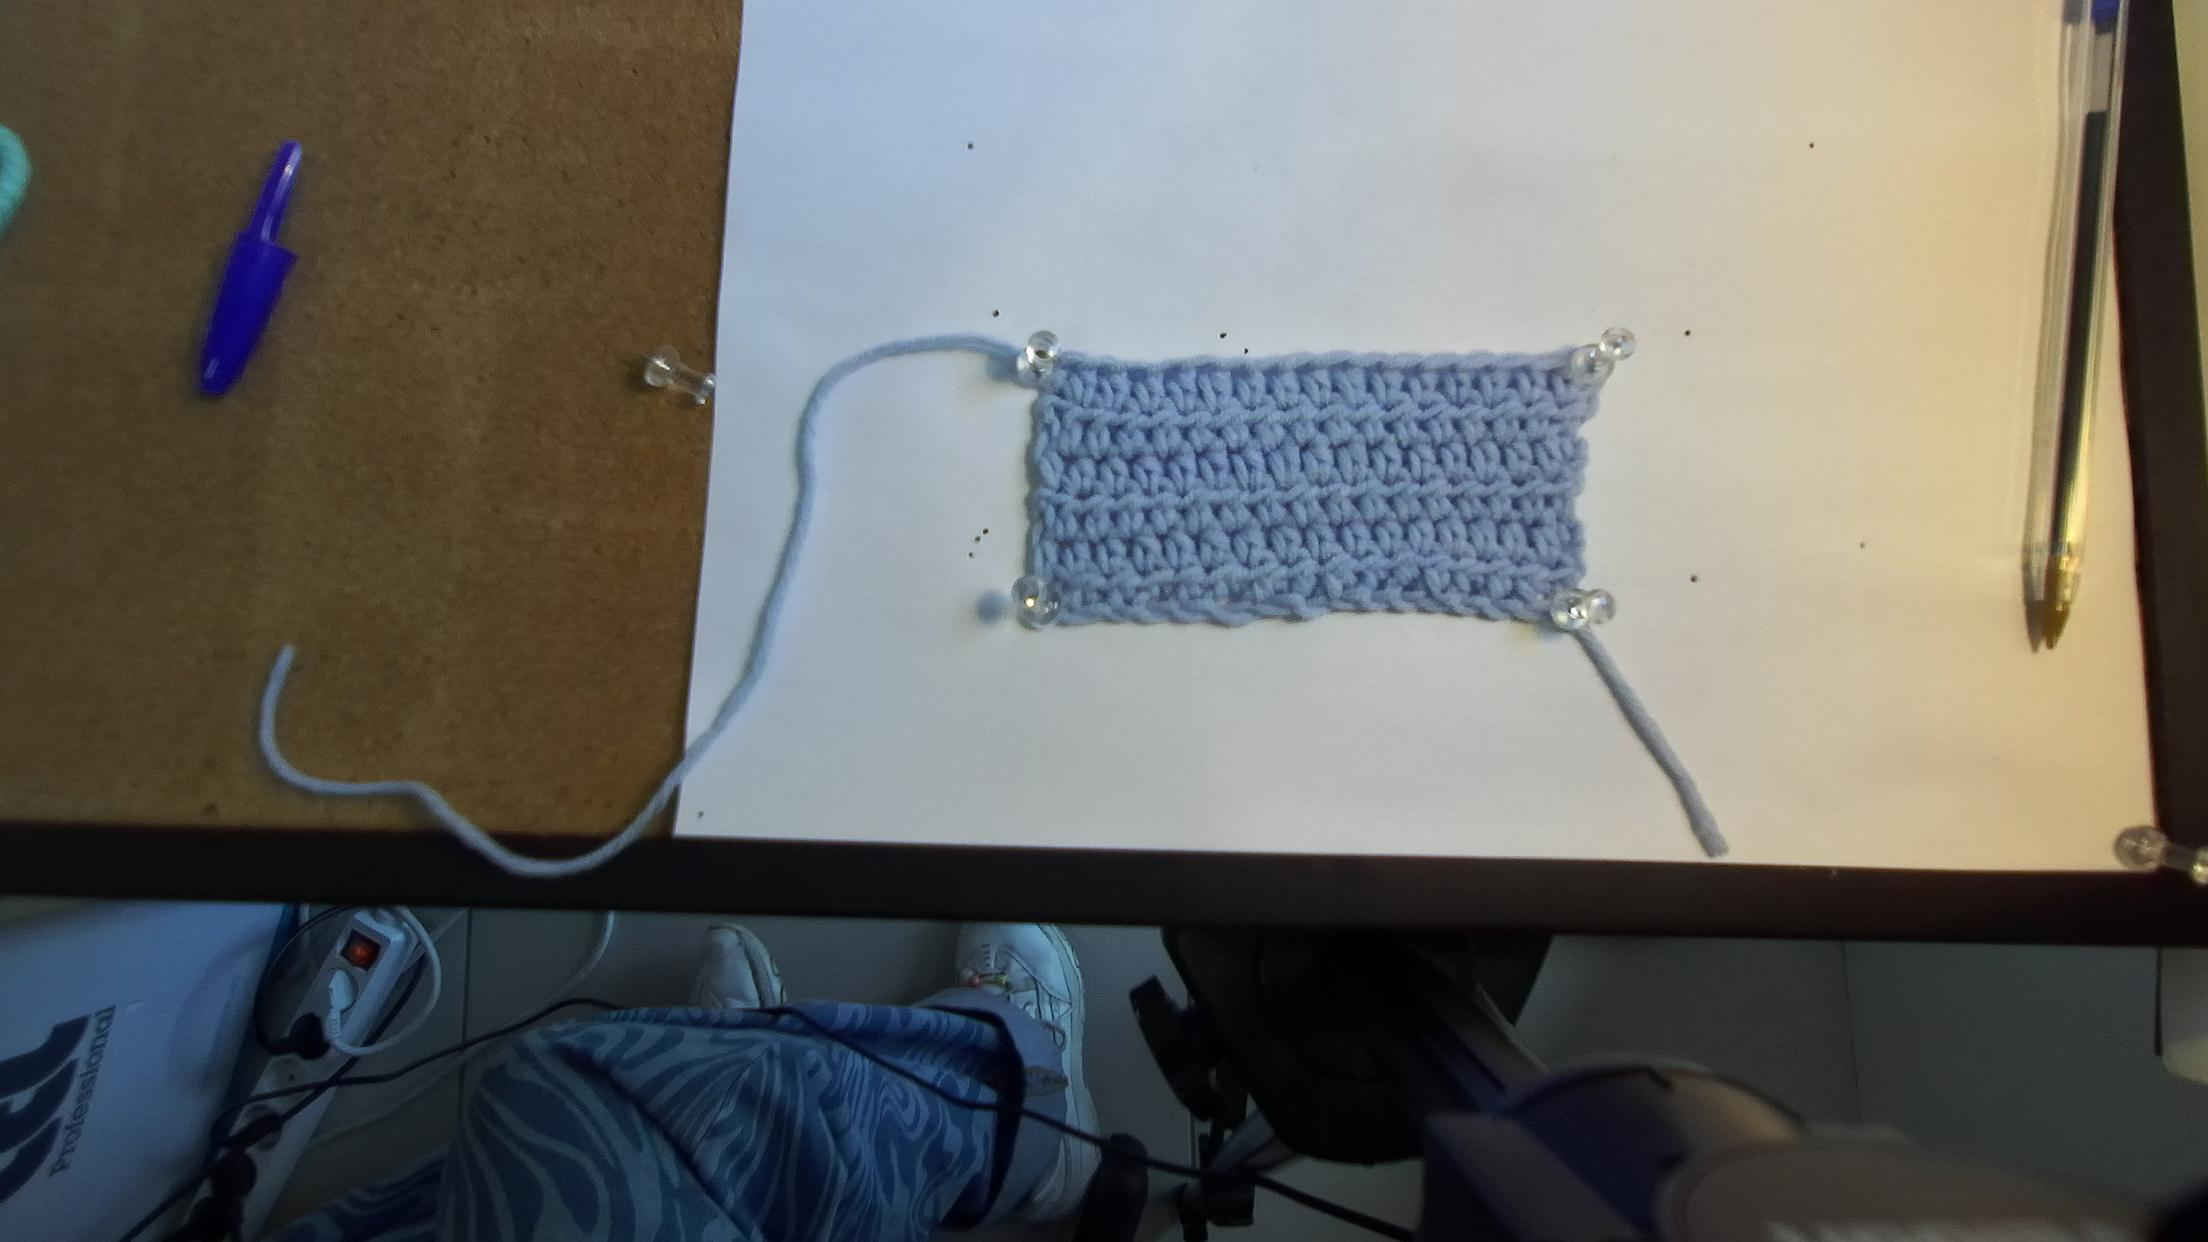hole: (1163, 364, 1181, 385), (1294, 361, 1315, 379), (1327, 359, 1350, 376), (1195, 362, 1215, 379), (1228, 364, 1248, 381), (1400, 362, 1419, 379), (1362, 361, 1383, 376), (1260, 364, 1278, 381), (1060, 362, 1080, 376), (1127, 369, 1146, 382), (1541, 364, 1562, 376), (1435, 365, 1454, 376), (1095, 365, 1110, 378), (1485, 362, 1497, 375), (1521, 364, 1530, 375)
swatch: (1018, 350, 1614, 632)
